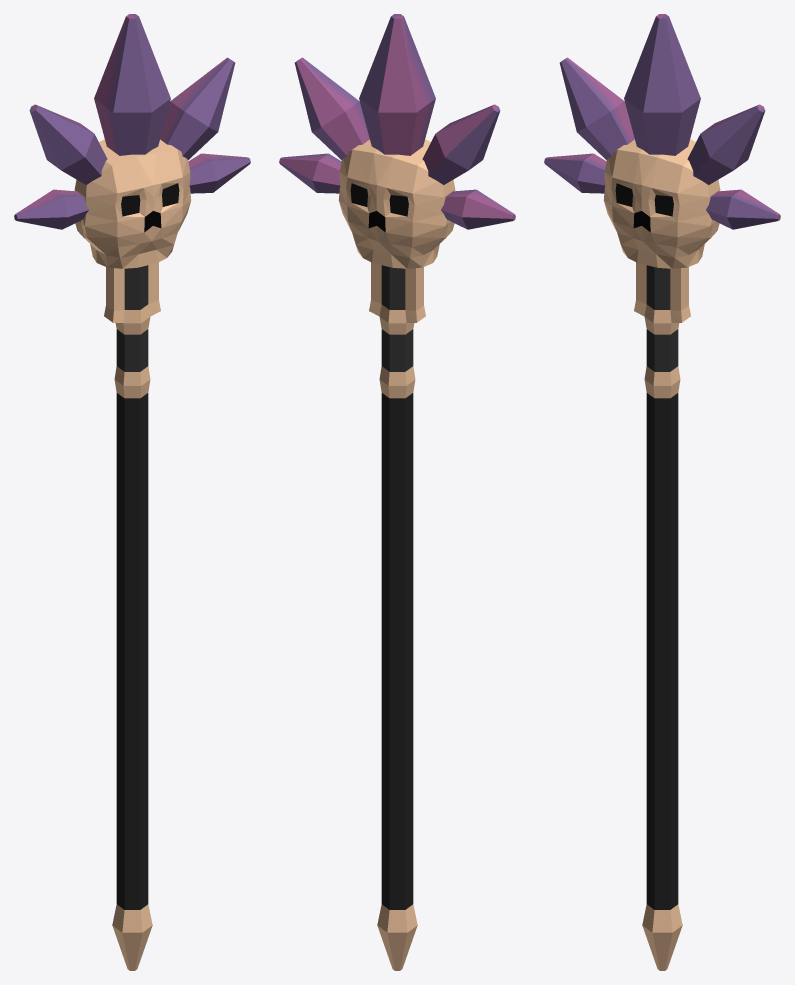
The model's file is Skeleton_Staff.fbx.
3 views of the same model, side by side, from view 1: azimuth 30°, elevation 25°; view 2: azimuth 150°, elevation 25°; view 3: azimuth 330°, elevation 25° (orthographic).
Parts seen in each view (by area): view 1: Staff, Skull, Cristal.001, Cristal, Cristal.002; view 2: Staff, Skull, Cristal.001, Cristal, Cristal.002; view 3: Staff, Skull, Cristal.001, Cristal, Cristal.002.
Part boxes in pixels (x1=…): Staff: x1=104, y1=262, x2=160, y2=970; Skull: x1=74, y1=139, x2=191, y2=268; Cristal.001: x1=29, y1=57, x2=235, y2=185; Cristal: x1=94, y1=14, x2=170, y2=155; Cristal.002: x1=14, y1=153, x2=250, y2=229; Staff: x1=369, y1=262, x2=425, y2=970; Skull: x1=338, y1=139, x2=455, y2=268; Cristal.001: x1=294, y1=57, x2=500, y2=185; Cristal: x1=359, y1=14, x2=435, y2=155; Cristal.002: x1=279, y1=153, x2=515, y2=229; Staff: x1=634, y1=262, x2=690, y2=970; Skull: x1=603, y1=139, x2=720, y2=268; Cristal.001: x1=559, y1=57, x2=765, y2=185; Cristal: x1=624, y1=14, x2=700, y2=155; Cristal.002: x1=544, y1=153, x2=780, y2=229.
Bounding box in the file's own units: 0.6128 × 2.39 × 0.1895.
